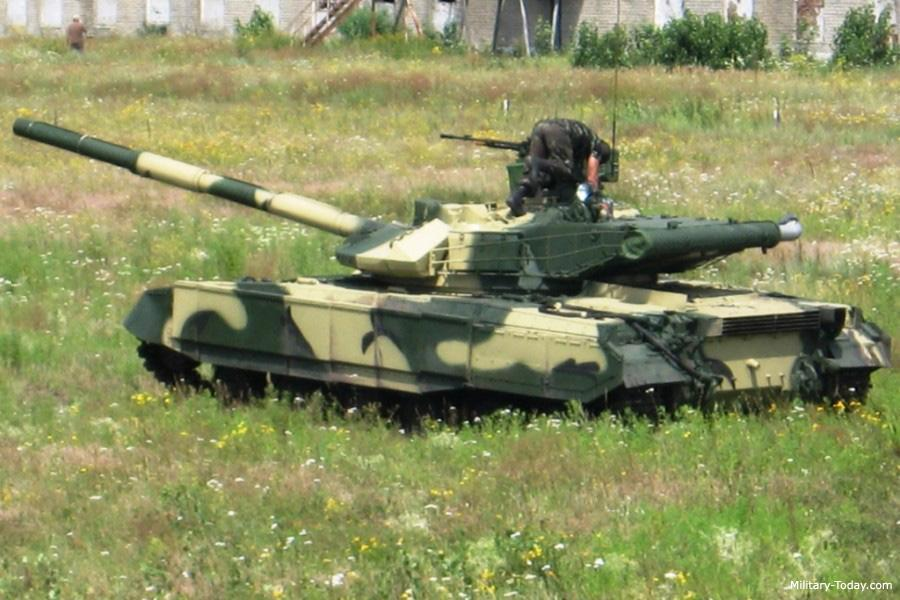person: (505, 114, 616, 212)
tank: (5, 87, 900, 479)
